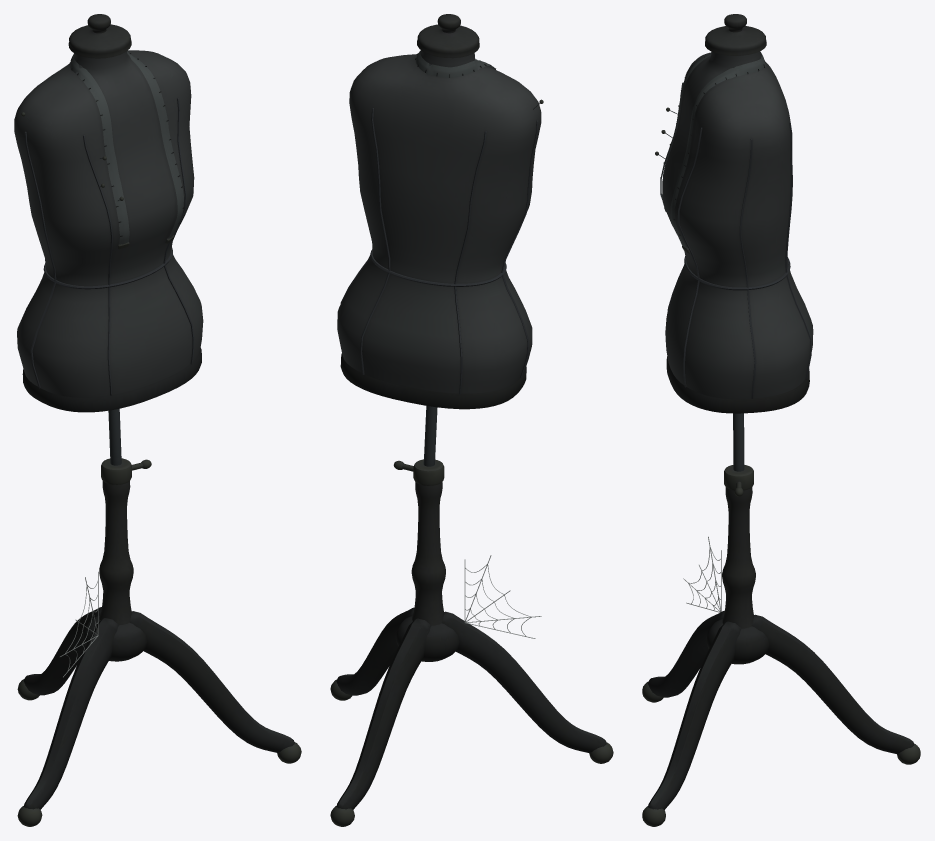
File: dress-form-mannequin.glb
3 renders of one model, left to right at view 1: azimuth 30°, elevation 25°; view 2: azimuth 150°, elevation 25°; view 3: azimuth 270°, elevation 25°, orthographic.
Visible parts, largest first — view 1: dress-form-mannequin_body, dress-form-mannequin_web; view 2: dress-form-mannequin_body, dress-form-mannequin_web; view 3: dress-form-mannequin_body, dress-form-mannequin_web.
Boxes of the visible parts, x1,y1,x2,y2 form: dress-form-mannequin_body: (14, 14, 301, 826); dress-form-mannequin_web: (60, 571, 98, 677); dress-form-mannequin_body: (330, 14, 613, 826); dress-form-mannequin_web: (464, 555, 541, 638); dress-form-mannequin_body: (642, 14, 920, 826); dress-form-mannequin_web: (683, 536, 721, 612).
Size of the model in its own units: 0.6282 by 1.61 by 0.5493.
2 materials, 1 textured.
